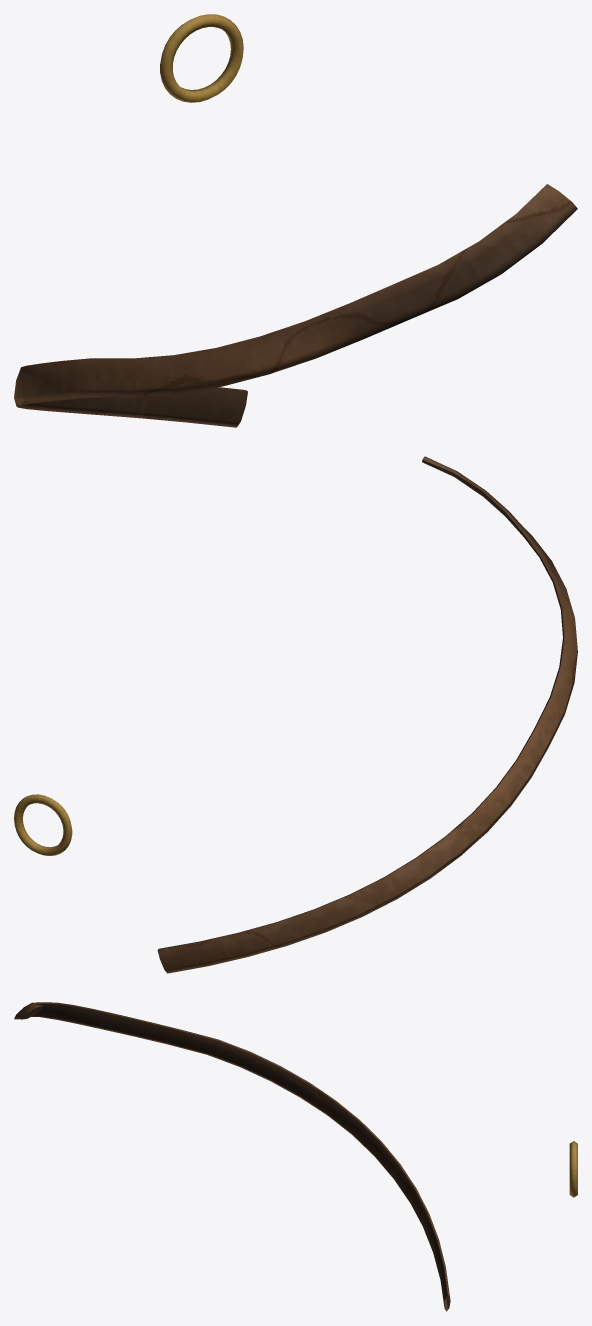
Rendered from lantern.glb.
3 renders of one model, top to bottom at view 1: azimuth 30°, elevation 25°; view 2: azimuth 150°, elevation 25°; view 3: azimuth 270°, elevation 25°, orthographic. The views are drawn at different scales.
Visible parts, largest first — view 1: lantern_strap, lantern_handle; view 2: lantern_strap, lantern_handle; view 3: lantern_strap, lantern_handle.
Boxes of the visible parts, box(x1,y1,x2,y2) form: lantern_strap: box(14, 184, 577, 427); lantern_handle: box(160, 14, 243, 102); lantern_strap: box(157, 456, 577, 973); lantern_handle: box(14, 794, 72, 855); lantern_strap: box(14, 1002, 450, 1311); lantern_handle: box(569, 1141, 577, 1197).
Size of the model in its own units: 13.09 by 13.44 by 23.09.
1 material, 1 textured.
